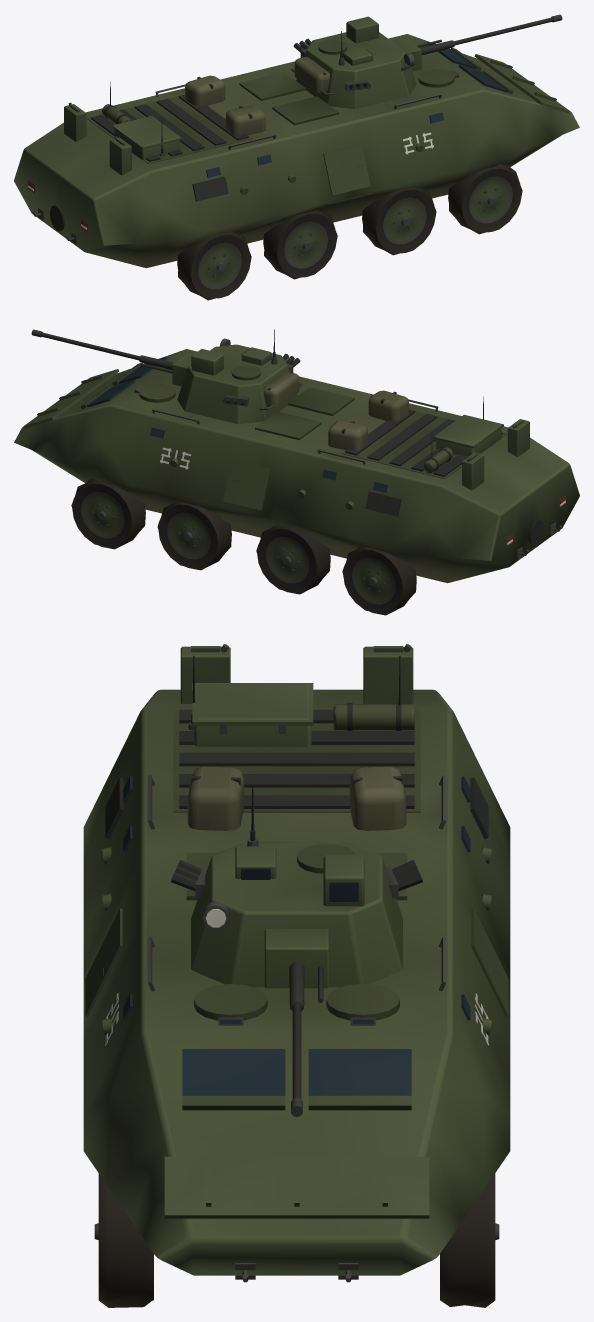
The model's file is btr82a.glb.
3 renders of one model, top to bottom at view 1: azimuth 30°, elevation 25°; view 2: azimuth 150°, elevation 25°; view 3: azimuth 270°, elevation 25°, orthographic. The views are drawn at different scales.
Visible parts, largest first — view 1: hull, turret, wheel_R0, wheel_R2, wheel_R3, wheel_R1, gun; view 2: hull, turret, wheel_L0, wheel_L3, wheel_L1, wheel_L2, gun; view 3: hull, turret, gun, wheel_R0, wheel_L0.
Part boxes in pixels (left/top/right/bottom): hull: left=14, top=34, right=579, bottom=268; turret: left=291, top=16, right=416, bottom=109; wheel_R0: left=448, top=164, right=522, bottom=234; wheel_R2: left=263, top=210, right=337, bottom=279; wheel_R3: left=177, top=231, right=251, bottom=300; wheel_R1: left=362, top=186, right=436, bottom=255; gun: left=392, top=14, right=562, bottom=71; hull: left=14, top=349, right=579, bottom=583; turret: left=177, top=329, right=302, bottom=424; wheel_L0: left=71, top=479, right=145, bottom=549; wheel_L3: left=342, top=546, right=416, bottom=615; wheel_L1: left=157, top=501, right=231, bottom=570; wheel_L2: left=256, top=525, right=330, bottom=594; gun: left=31, top=329, right=193, bottom=386; hull: left=83, top=644, right=510, bottom=1282; turret: left=171, top=785, right=422, bottom=987; gun: left=264, top=929, right=329, bottom=1116; wheel_R0: left=94, top=1173, right=153, bottom=1307; wheel_L0: left=440, top=1173, right=499, bottom=1307.
Size of the model in its own units: 8.04 by 3.05 by 2.9.
